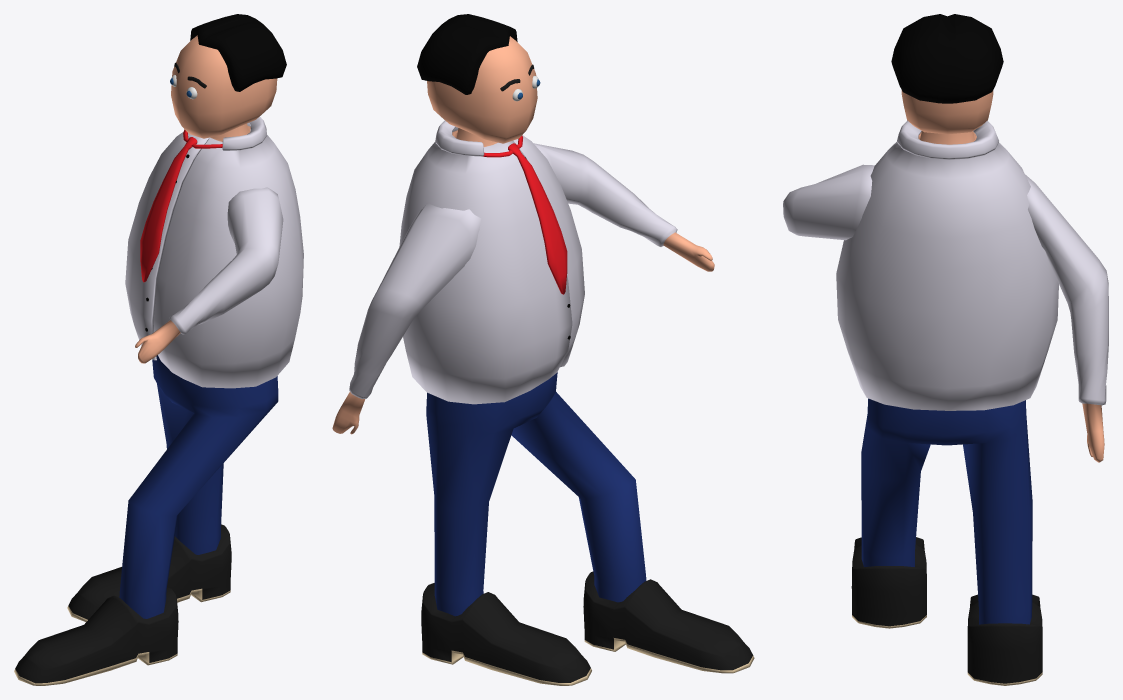
The model's file is karackter_model_pose_2.fbx.
3 renders of one model, left to right at view 1: azimuth 30°, elevation 25°; view 2: azimuth 150°, elevation 25°; view 3: azimuth 270°, elevation 25°, orthographic. The views are drawn at different scales.
Visible parts, largest first — view 1: Cube.091, Cube.090, Cube.094, Cube.095, Cube.088, Cube.096, Cube.092, Cube.089; view 2: Cube.091, Cube.090, Cube.097, Cube.096, Cube.094, Cube.088, Cube.095, Cube.092, Cube.089; view 3: Cube.091, Cube.090, Cube.097, Cube.092, Cube.096, Cube.094, Cube.095, Cube.088, Cube.082.
Part boxes in pixels (bbox=[...]): Cube.091: bbox=[125, 116, 303, 388]; Cube.090: bbox=[119, 355, 278, 618]; Cube.094: bbox=[14, 587, 178, 685]; Cube.095: bbox=[135, 187, 283, 363]; Cube.088: bbox=[171, 35, 277, 138]; Cube.096: bbox=[67, 524, 231, 621]; Cube.092: bbox=[190, 14, 286, 91]; Cube.089: bbox=[140, 137, 197, 282]; Cube.091: bbox=[399, 120, 584, 404]; Cube.090: bbox=[426, 372, 646, 616]; Cube.097: bbox=[332, 203, 481, 434]; Cube.096: bbox=[421, 583, 591, 685]; Cube.094: bbox=[583, 571, 754, 673]; Cube.088: bbox=[427, 36, 537, 143]; Cube.095: bbox=[534, 143, 714, 271]; Cube.092: bbox=[417, 14, 517, 94]; Cube.089: bbox=[508, 143, 567, 294]; Cube.091: bbox=[836, 120, 1058, 410]; Cube.090: bbox=[861, 398, 1032, 624]; Cube.097: bbox=[1025, 174, 1108, 462]; Cube.092: bbox=[891, 14, 1003, 103]; Cube.096: bbox=[967, 594, 1042, 685]; Cube.094: bbox=[851, 537, 926, 628]; Cube.095: bbox=[783, 164, 874, 240]; Cube.088: bbox=[901, 90, 993, 134]; Cube.082: bbox=[918, 131, 976, 144].
Size of the model in its own units: 405 by 730 by 331.
